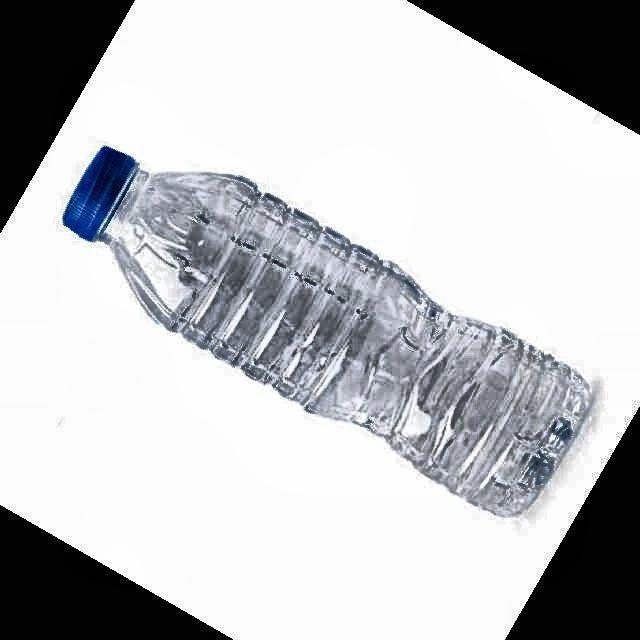plastic: (64, 146, 591, 515)
